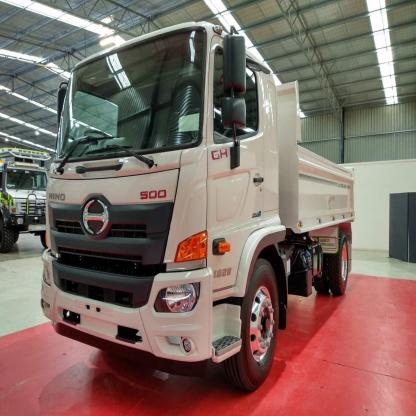dump_truck: (28, 19, 364, 392)
